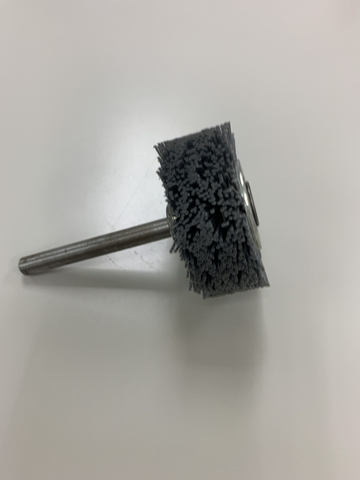Wheel Brush: (16, 133, 272, 301), (119, 120, 275, 312)
